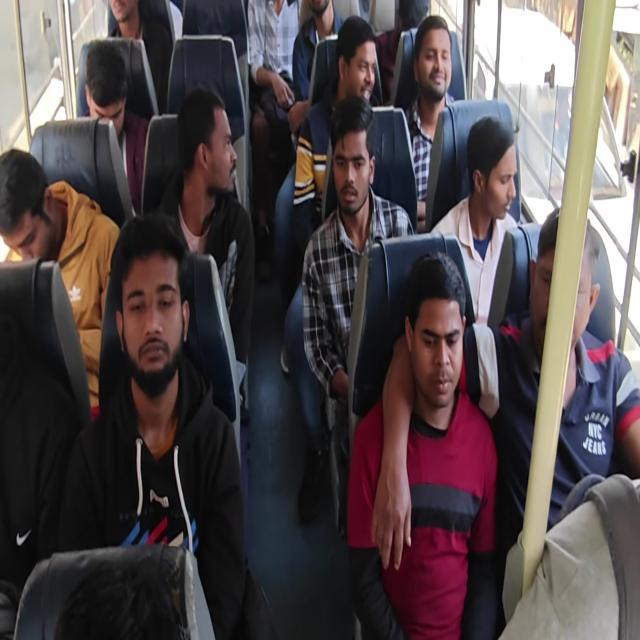person: (2, 1, 638, 638), (376, 206, 639, 633), (56, 211, 274, 638), (346, 250, 498, 638), (301, 94, 415, 537), (0, 147, 121, 419), (157, 86, 255, 412), (292, 15, 378, 254), (429, 115, 519, 329), (246, 1, 301, 235), (82, 41, 149, 214), (53, 555, 190, 639), (404, 14, 456, 230), (106, 0, 173, 116), (373, 0, 429, 105), (292, 0, 344, 104)
